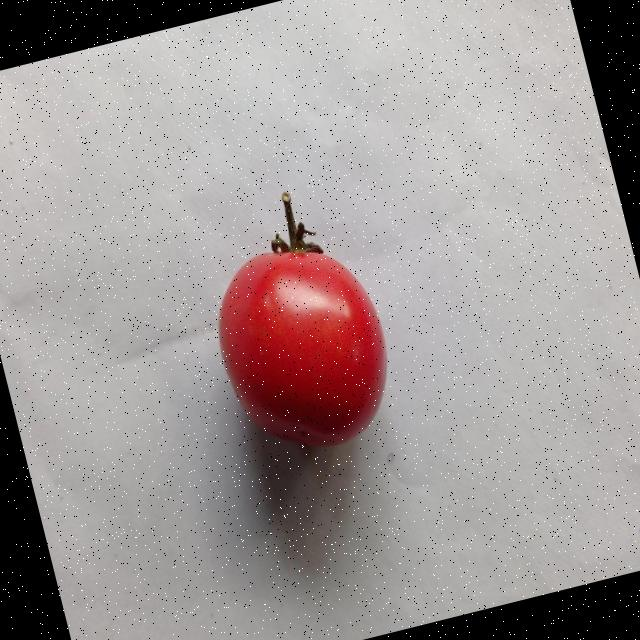Ripe: (194, 225, 412, 474)
